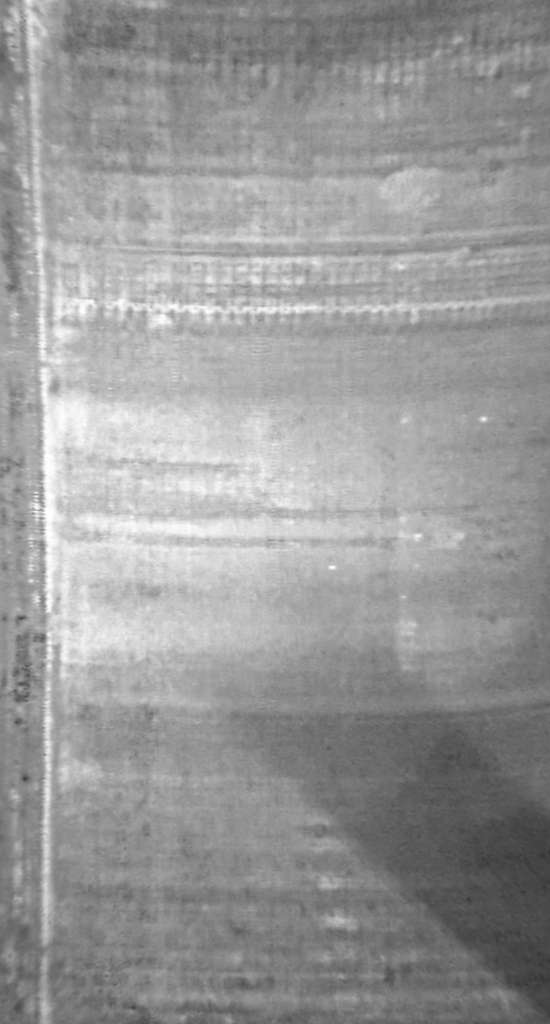splice: (1, 4, 54, 1024)
